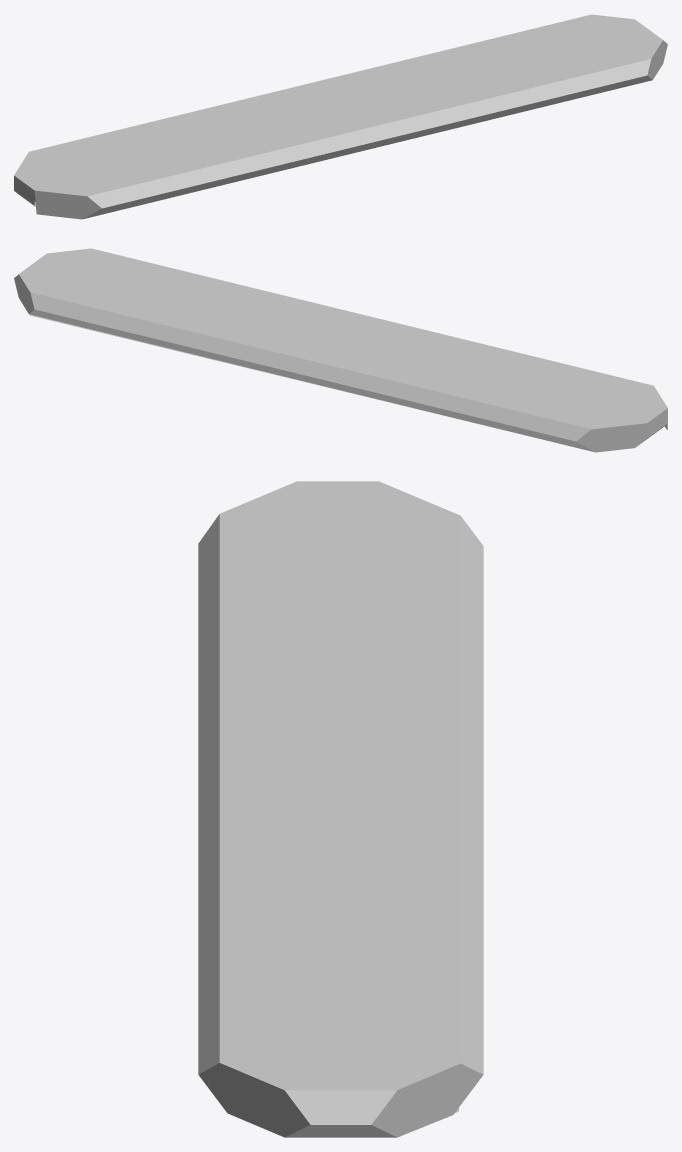
The model's file is SM_Wooden_Spoon_02.fbx.
3 views of the same model, one above another, from view 1: azimuth 30°, elevation 25°; view 2: azimuth 150°, elevation 25°; view 3: azimuth 270°, elevation 25° (orthographic). The views are drawn at different scales.
Visible parts, largest first — view 1: SM_Wooden_Spoon_02_ConvexHulls; view 2: SM_Wooden_Spoon_02_ConvexHulls; view 3: SM_Wooden_Spoon_02_ConvexHulls.
Boxes of the visible parts, x1,y1,x2,y2 form: SM_Wooden_Spoon_02_ConvexHulls: (14, 14, 667, 219); SM_Wooden_Spoon_02_ConvexHulls: (14, 248, 667, 452); SM_Wooden_Spoon_02_ConvexHulls: (198, 481, 483, 1137).
Bounding box in the file's own units: 30.21 × 5.88 × 1.1.
